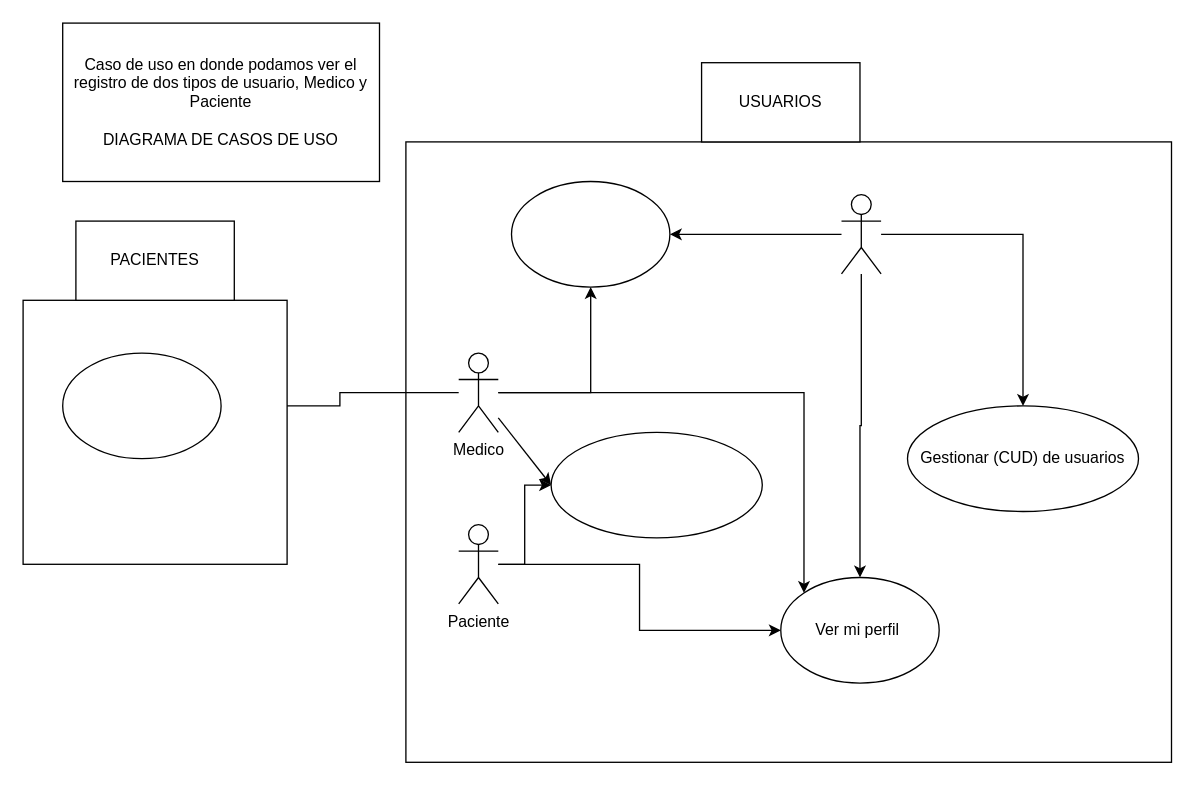
Some shapes in this 1195 by 785 pixel diagram are drawn without their labels. Each missing label, with the box of its shape:
Administrador: (840, 193, 881, 274)
Atender paciente: (61, 352, 221, 459)
Leer usuarios: (510, 180, 670, 287)
Registro de usuario: (550, 431, 762, 538)
